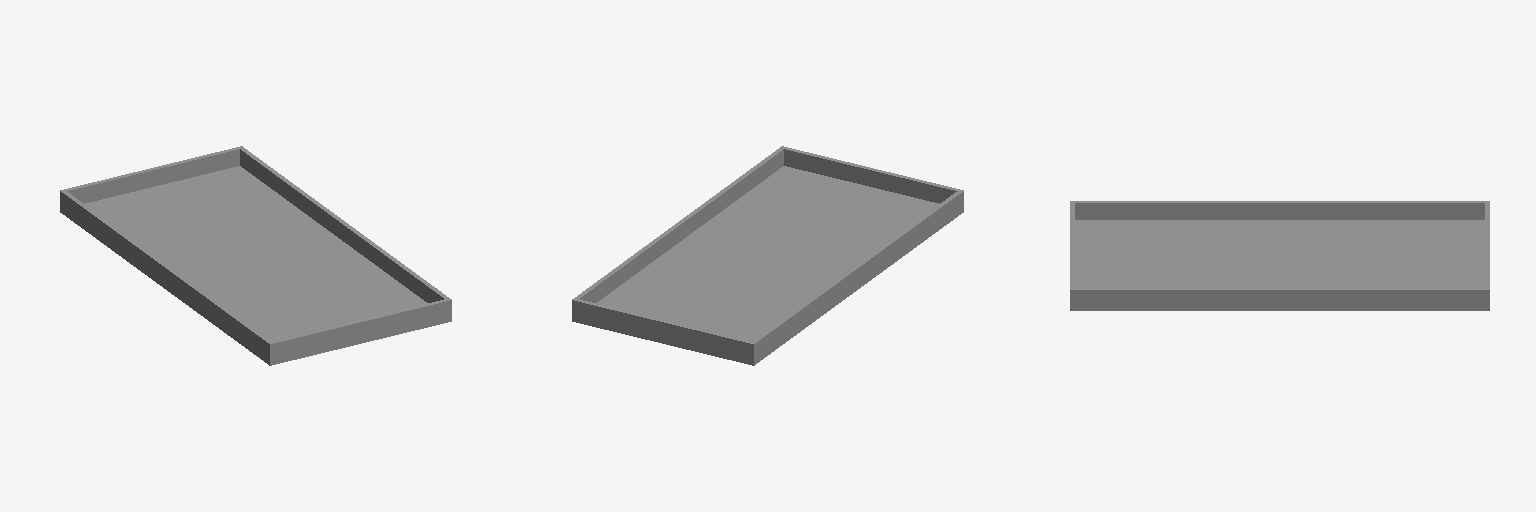
Rendered from boardwwalls.obj.
3 views of the same model, side by side, from view 1: azimuth 30°, elevation 25°; view 2: azimuth 150°, elevation 25°; view 3: azimuth 270°, elevation 25° (orthographic).
Parts seen in each view (by area): view 1: Cube; view 2: Cube; view 3: Cube.
Part boxes in pixels (bbox=[...]): Cube: bbox=[60, 146, 451, 365]; Cube: bbox=[572, 146, 963, 365]; Cube: bbox=[1070, 201, 1489, 310].
Bounding box in the file's own units: 40 × 4.5 × 80.